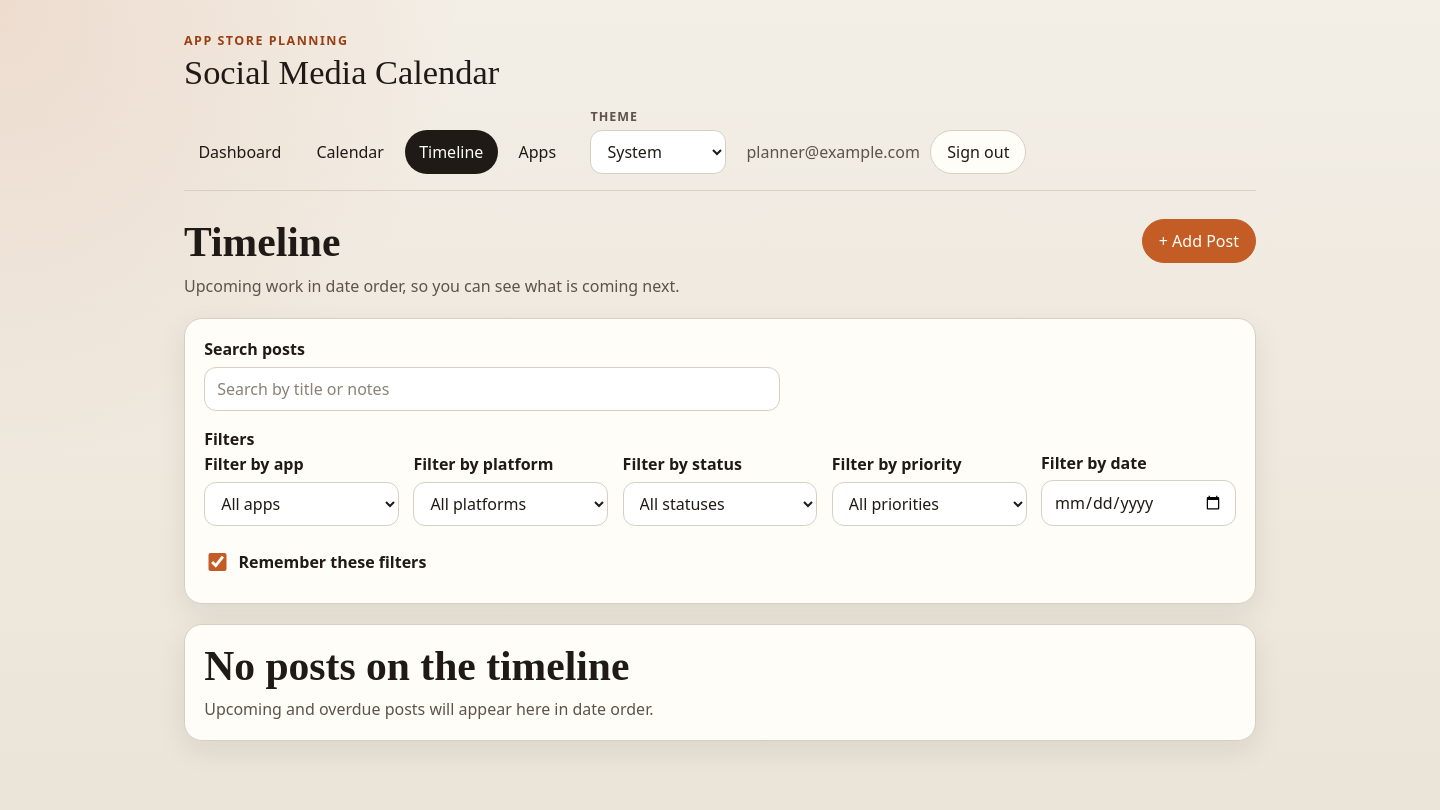
Test case: B-004 add and edit post › opens the Add Post form from the Timeline page
Step 1. Click the link "+ Add Post" → (1199, 242), box [1142,220,1256,264]
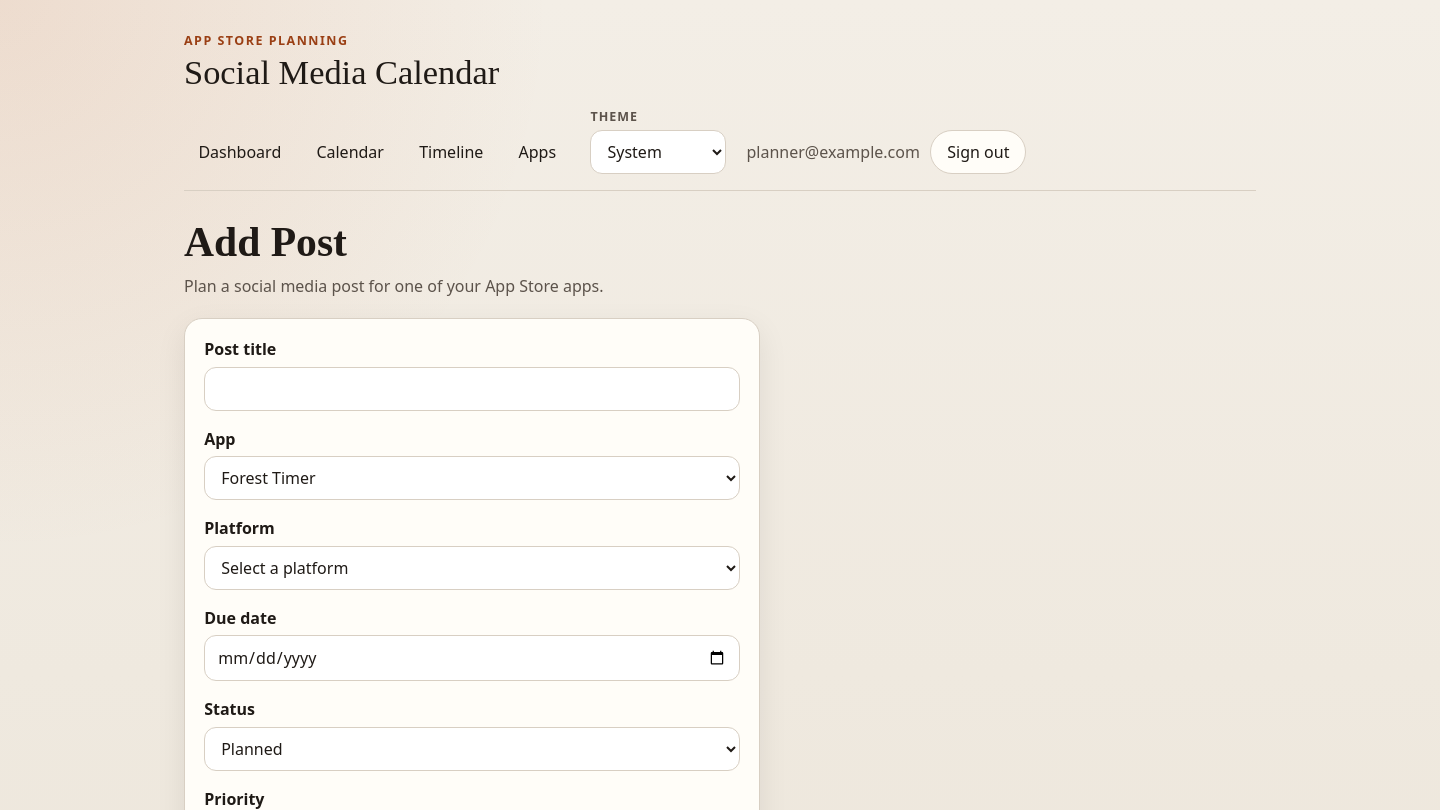
Expected: the heading "Add Post" is shown, [184,220,347,266]
